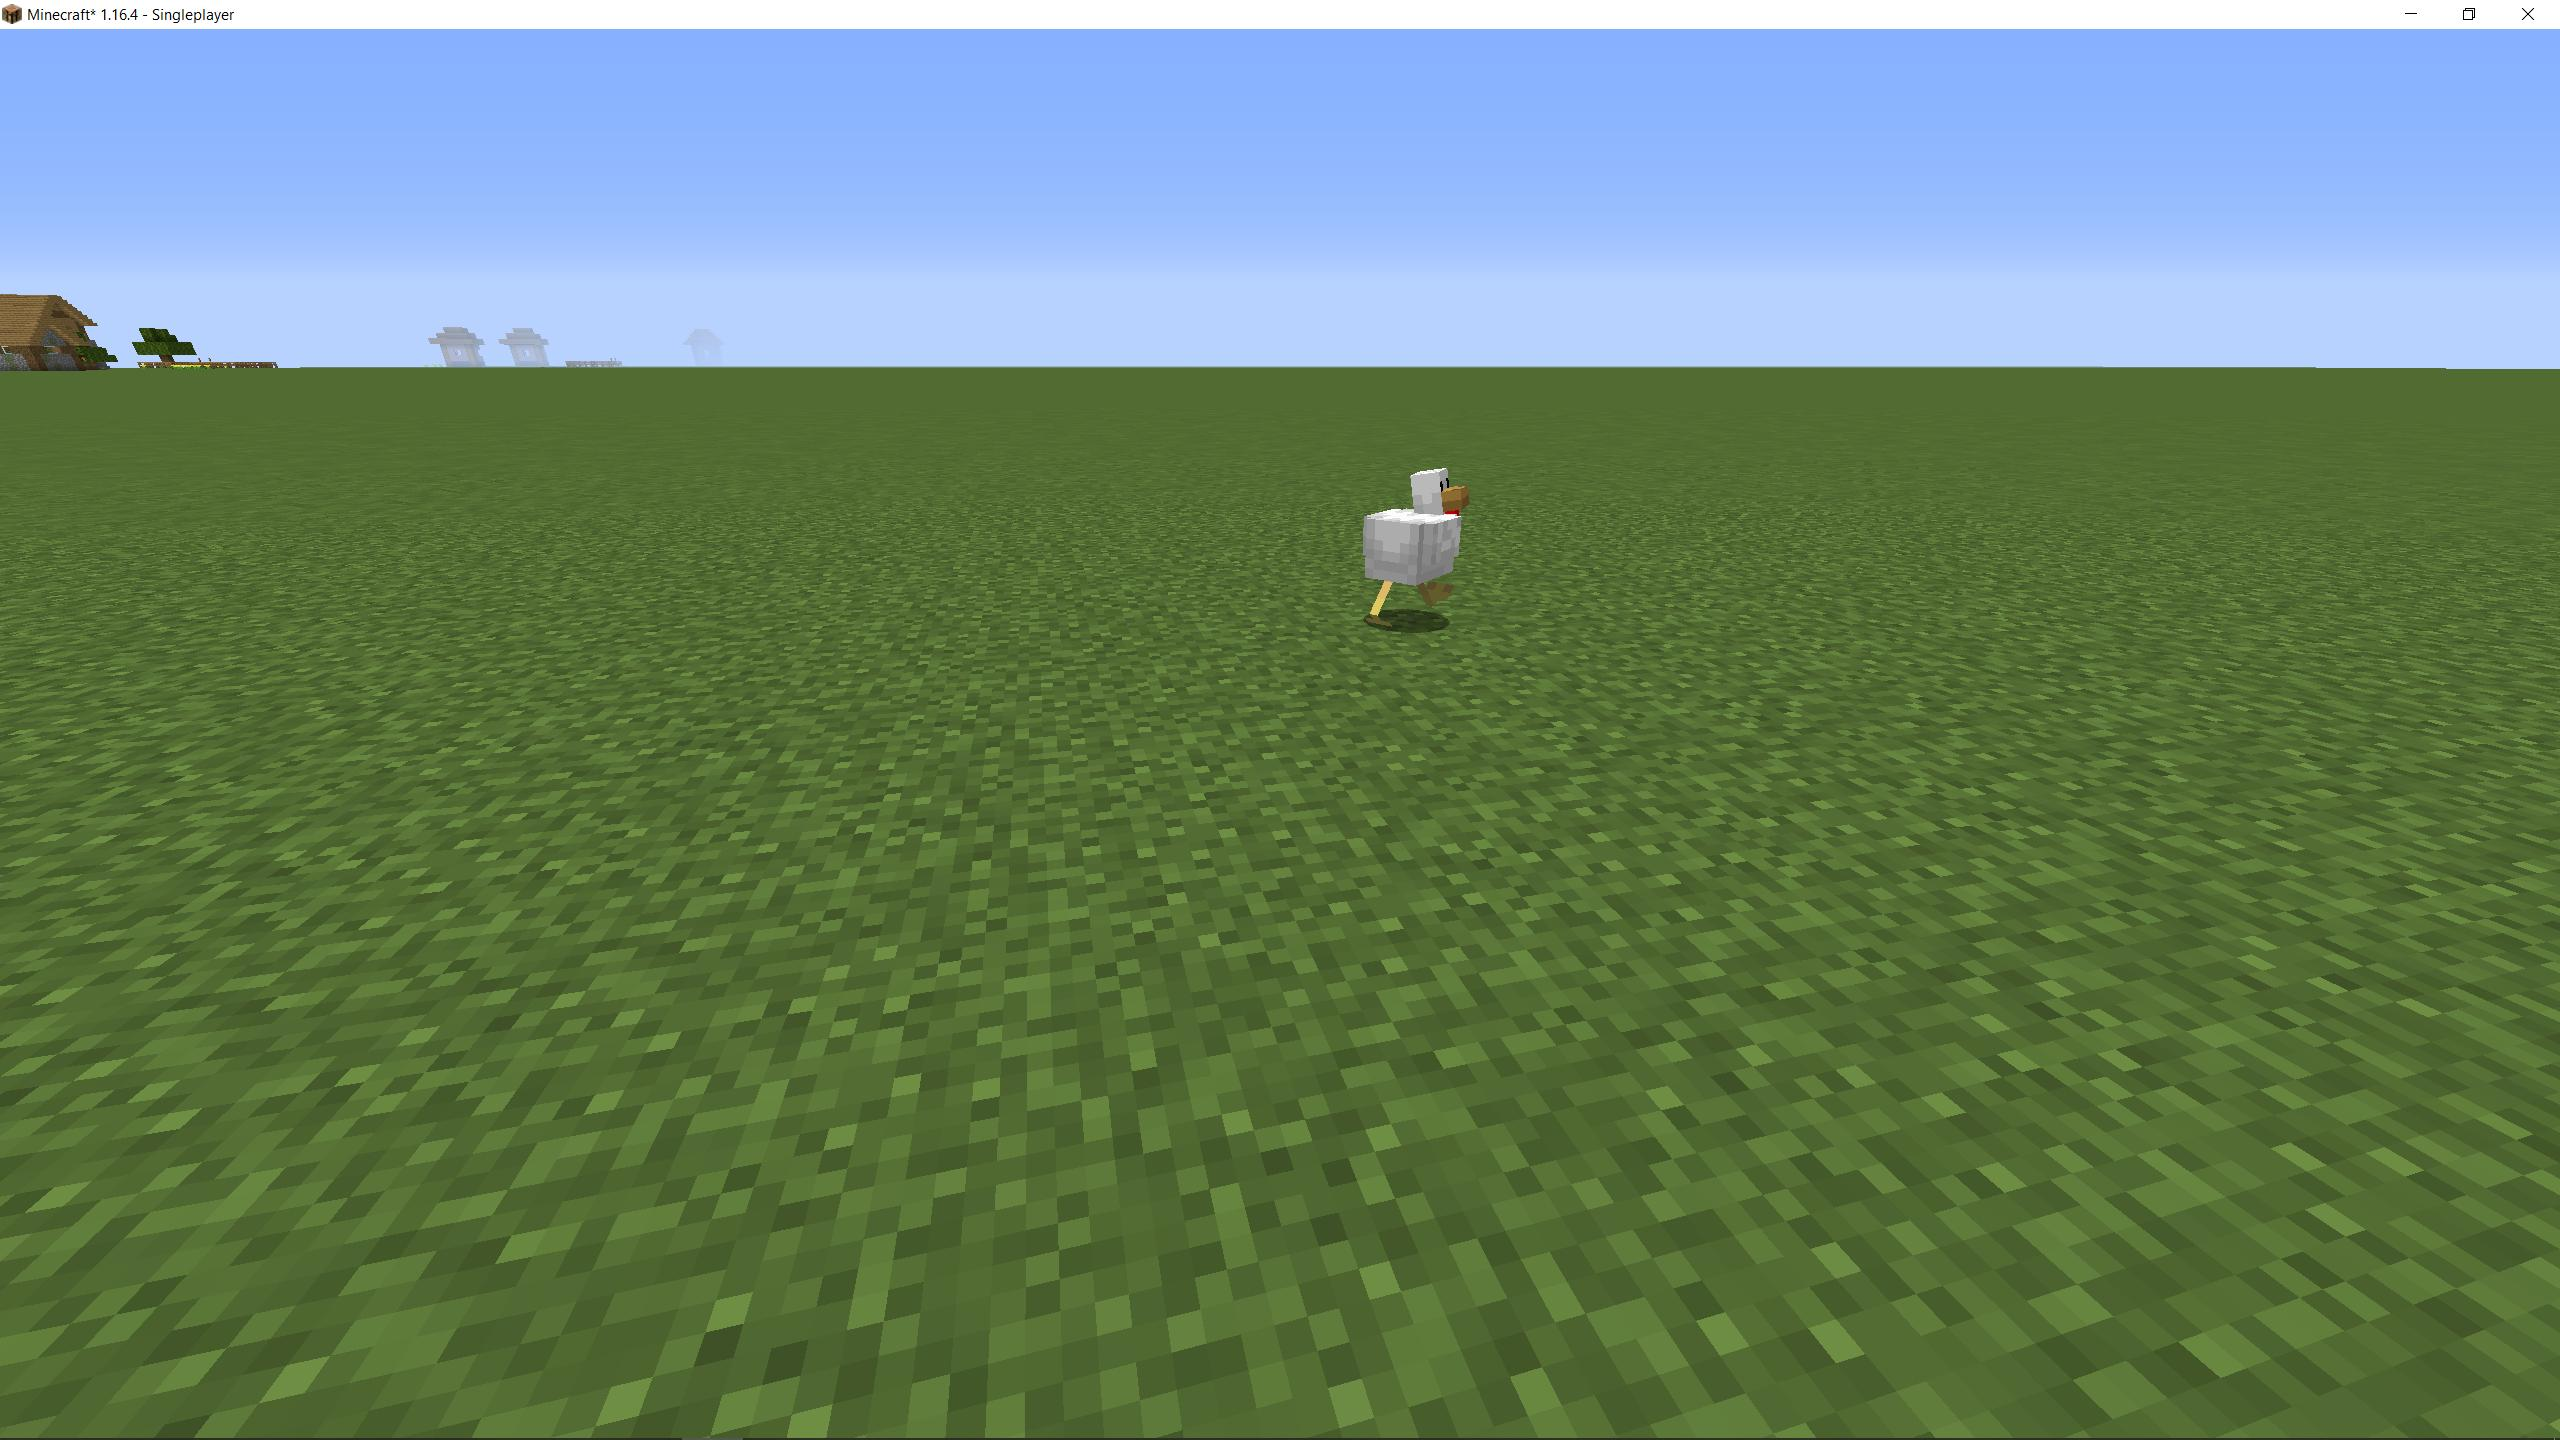chicken: (1361, 459, 1472, 628)
